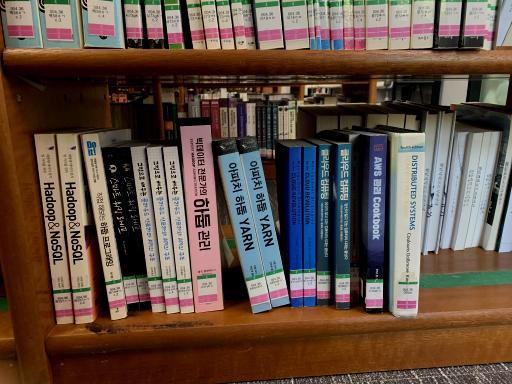book-spine: (218, 137, 271, 313), (238, 135, 290, 308), (180, 118, 224, 313), (82, 134, 127, 320), (35, 134, 74, 324), (57, 134, 93, 325), (102, 147, 140, 312), (394, 133, 425, 317), (116, 147, 151, 309), (131, 146, 165, 312), (147, 147, 180, 314), (163, 147, 194, 313), (366, 135, 388, 315), (317, 145, 333, 307), (338, 144, 351, 310), (290, 147, 303, 308), (304, 146, 316, 307), (349, 134, 360, 303)
